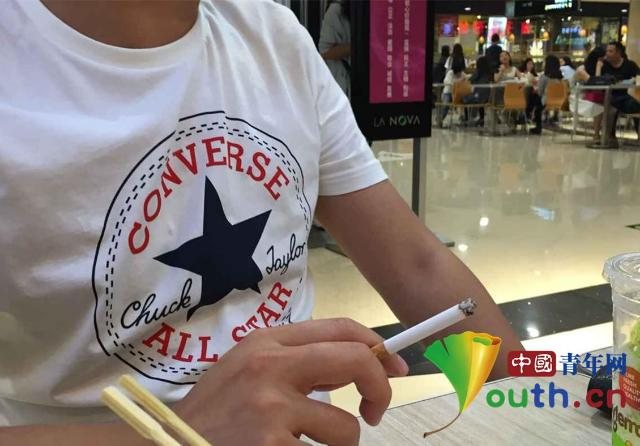Cigarette: (372, 297, 476, 359)
